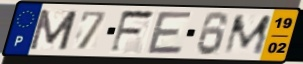6: (195, 10, 230, 57)
7: (78, 9, 109, 51)
E: (144, 10, 195, 56)
F: (107, 9, 157, 55)
M: (26, 8, 80, 52), (221, 14, 275, 56)
